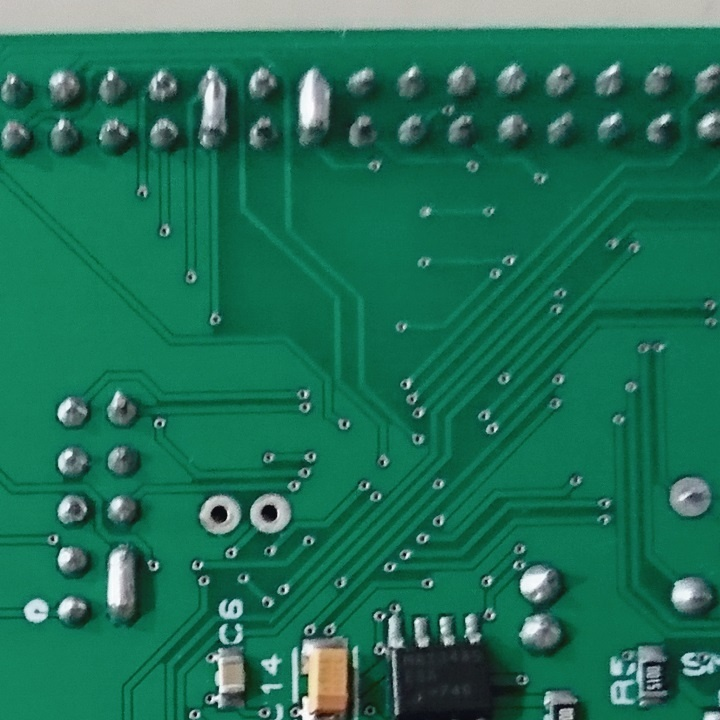F: (667, 471, 713, 522), (196, 492, 246, 537), (249, 491, 294, 538)
P: (103, 543, 144, 629), (293, 67, 333, 152), (194, 63, 231, 153)
